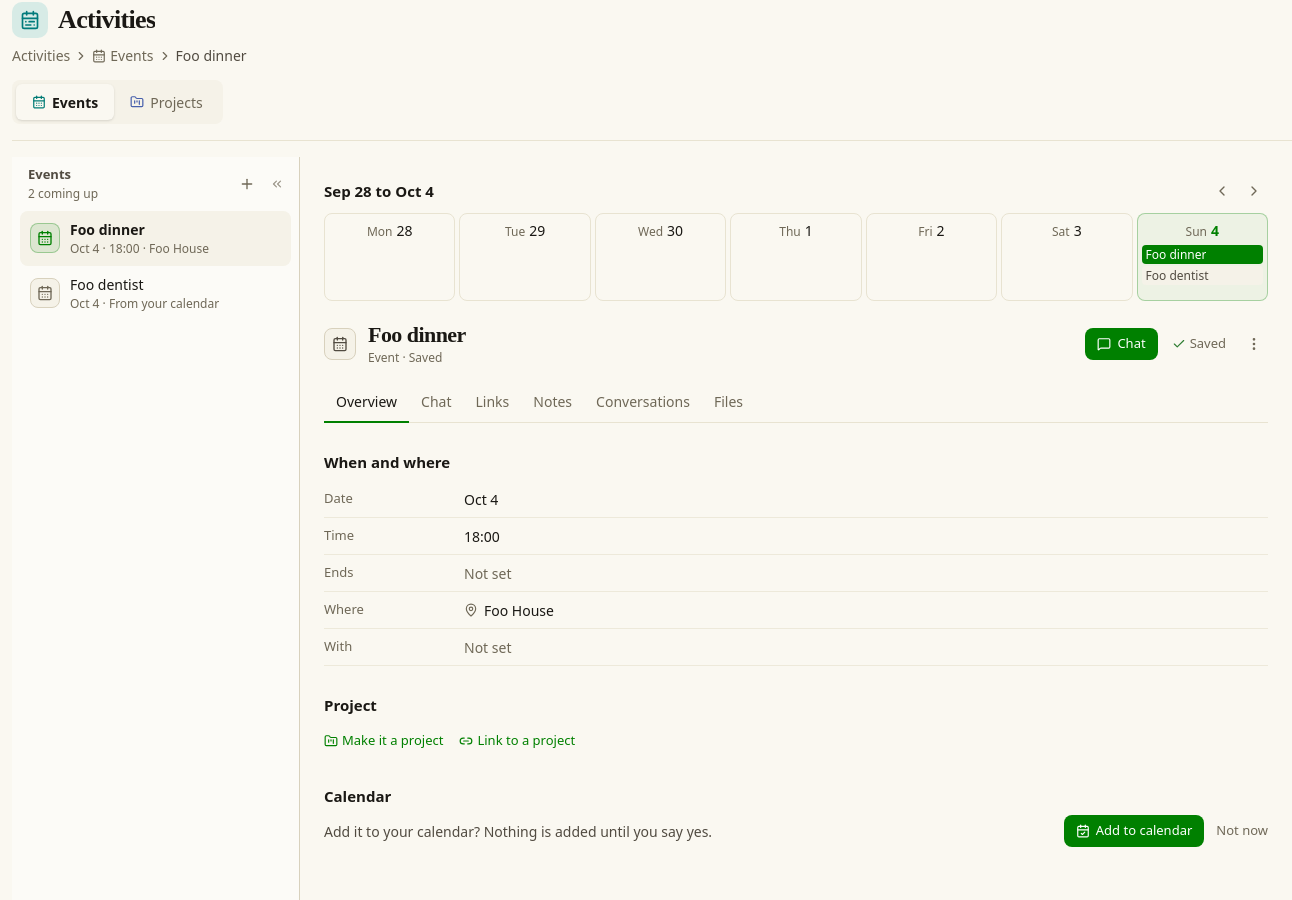
Test: the Activities page › nothing goes to the calendar until the user says yes; an event becomes a project
What coordinates should you click on to do the following:
click the button with test id "event-calendar-yes"
I would click on:
 (1134, 831)
Its box is x1=1064 y1=815 x2=1204 y2=847.
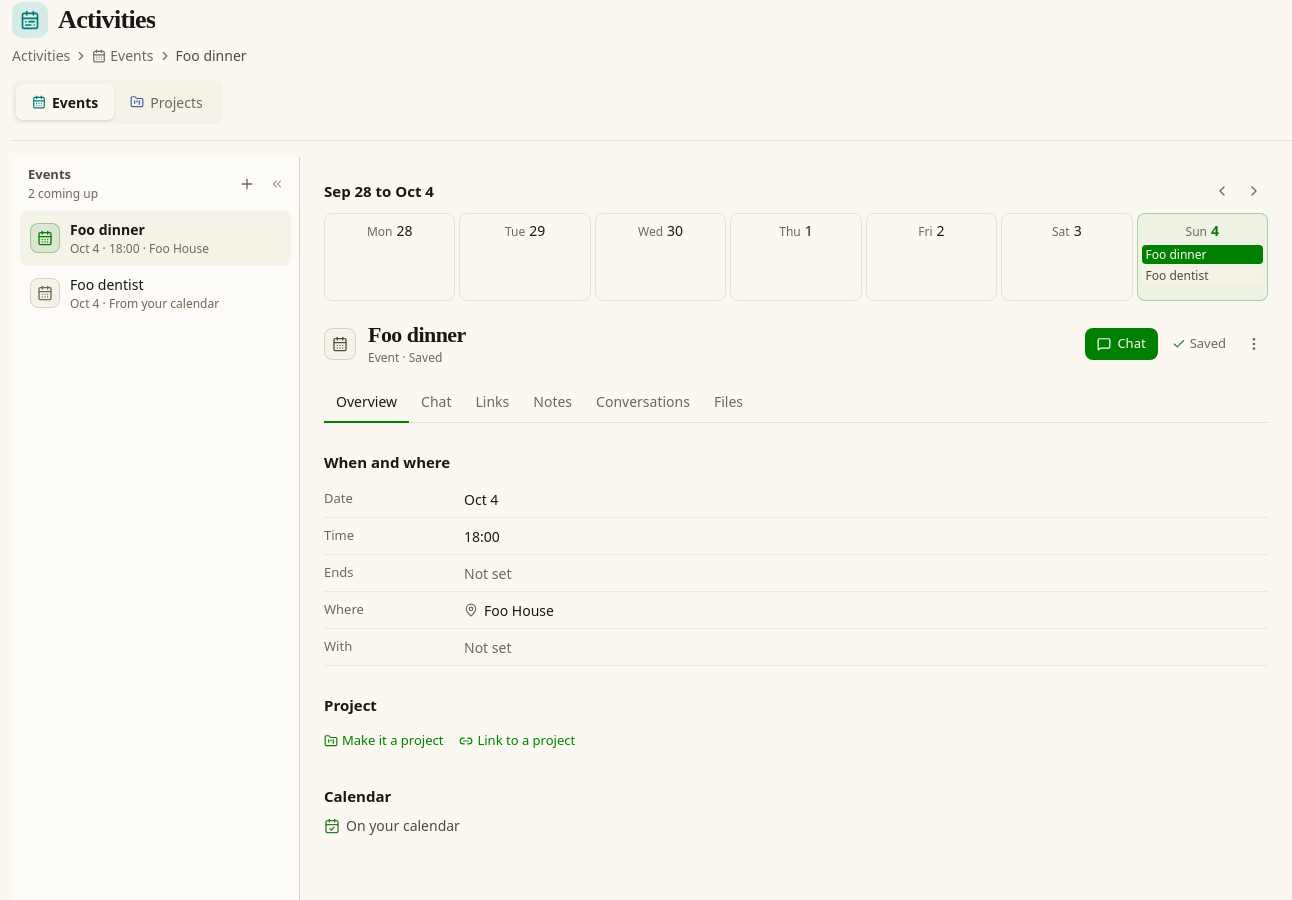
expect the element with test id "event-calendar-synced" is shown: met, box x1=324 y1=816 x2=460 y2=835
What coordinates should you click on to do the following:
click the button with test id "event-make-project"
I would click on:
 (384, 740)
Its box is x1=324 y1=724 x2=443 y2=756.
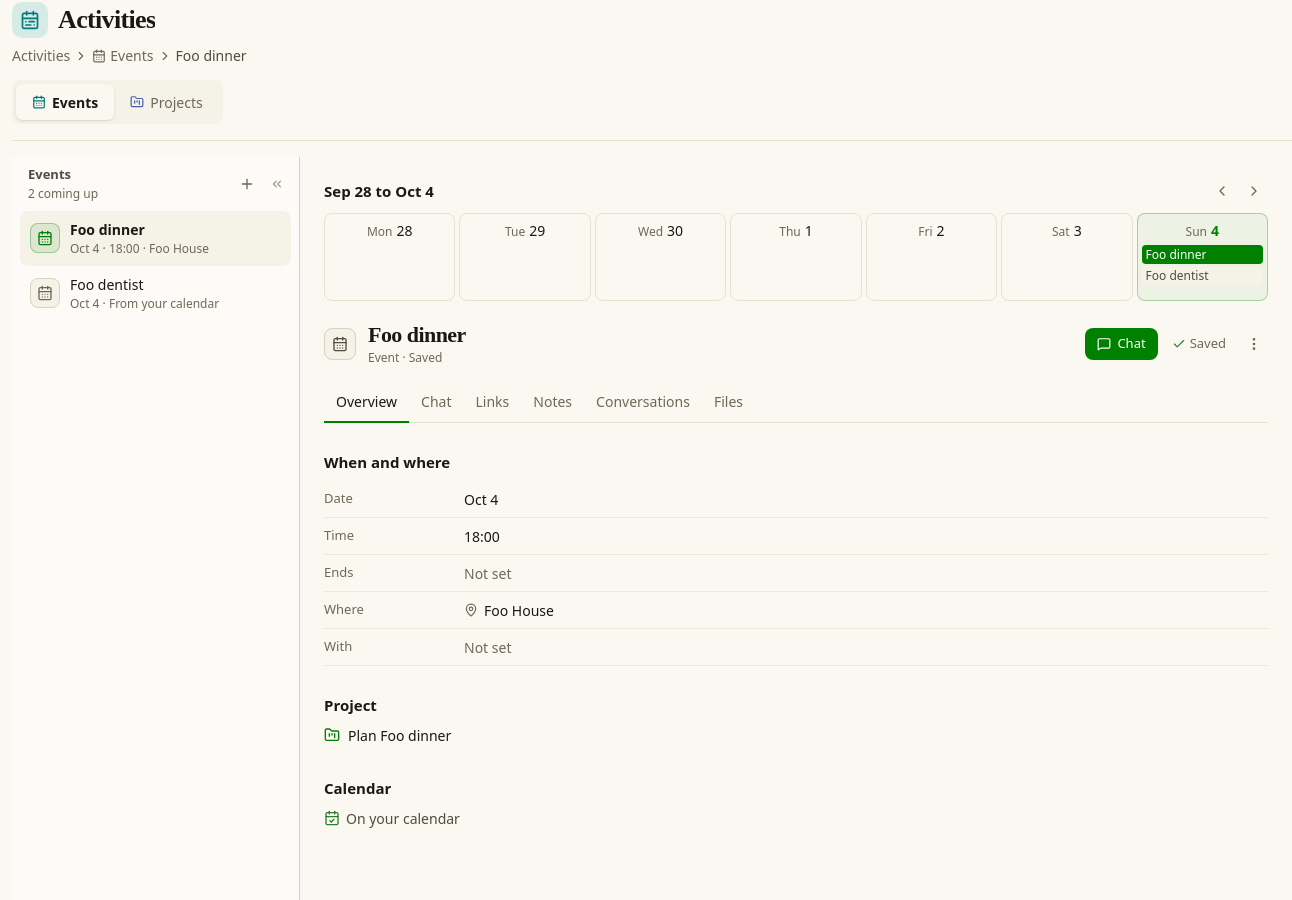
expect the button with test id "event-project-open" reads "Plan Foo dinner": met, box x1=324 y1=724 x2=451 y2=746
